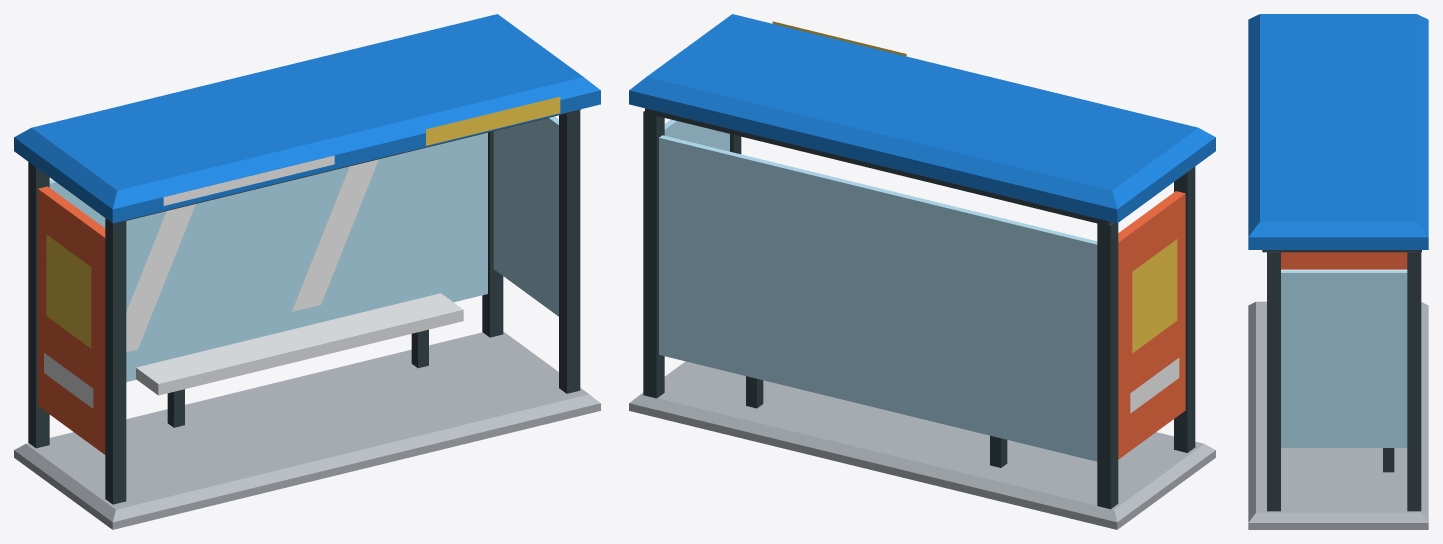
File: bus_stop.glb
3 views of the same model, side by side, from view 1: azimuth 30°, elevation 25°; view 2: azimuth 150°, elevation 25°; view 3: azimuth 270°, elevation 25° (orthographic). The views are drawn at different scales.
Parts seen in each view (by area): view 1: bus_stop; view 2: bus_stop; view 3: bus_stop.
Boxes of the visible parts, x1,y1,x2,y2 form: bus_stop: (14, 14, 600, 529); bus_stop: (629, 14, 1215, 529); bus_stop: (1248, 14, 1428, 529).
Bounding box in the file's own units: 0.4 × 0.26 × 0.143.
